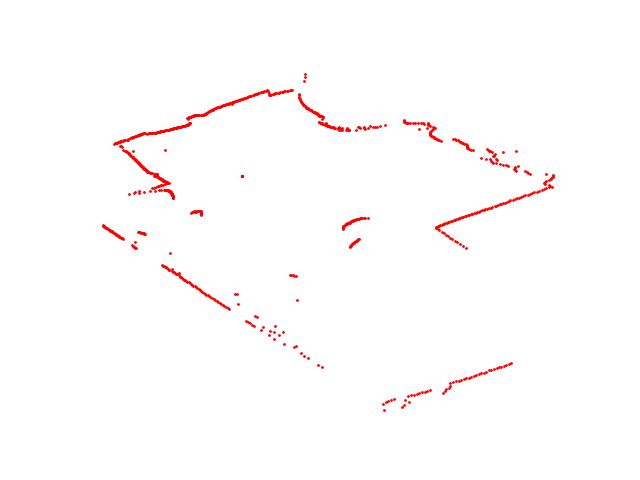person: (341, 214, 372, 251)
